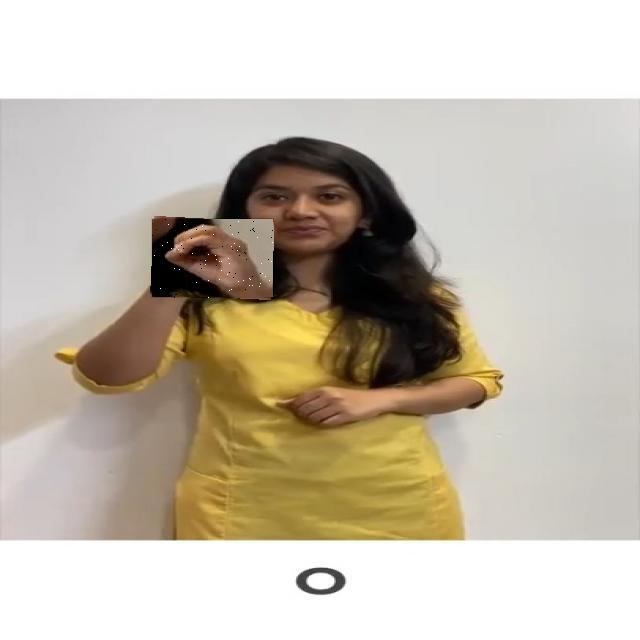O: (151, 218, 274, 298)
